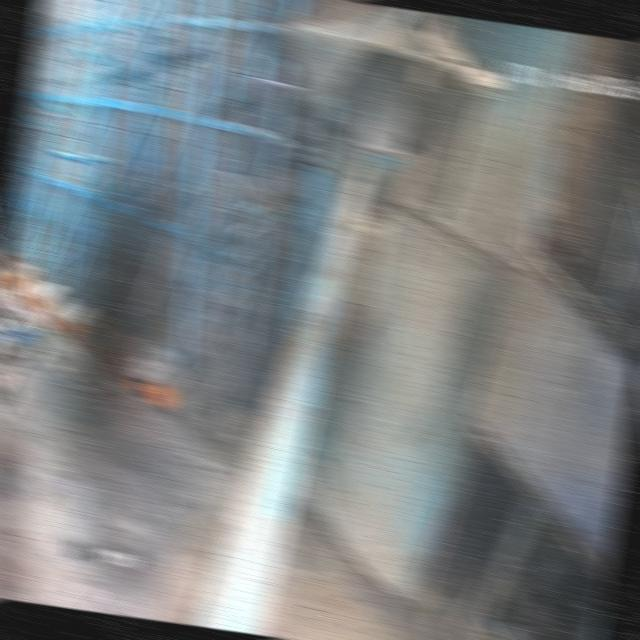cement_mixer_truck: (0, 251, 55, 462)
swing_chute: (186, 131, 418, 633)
